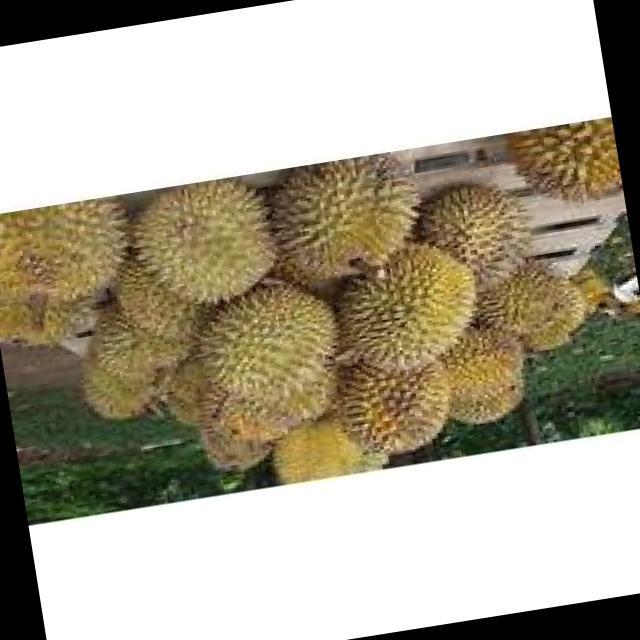fruit: (305, 214, 529, 466), (403, 154, 602, 382), (168, 254, 368, 471)
